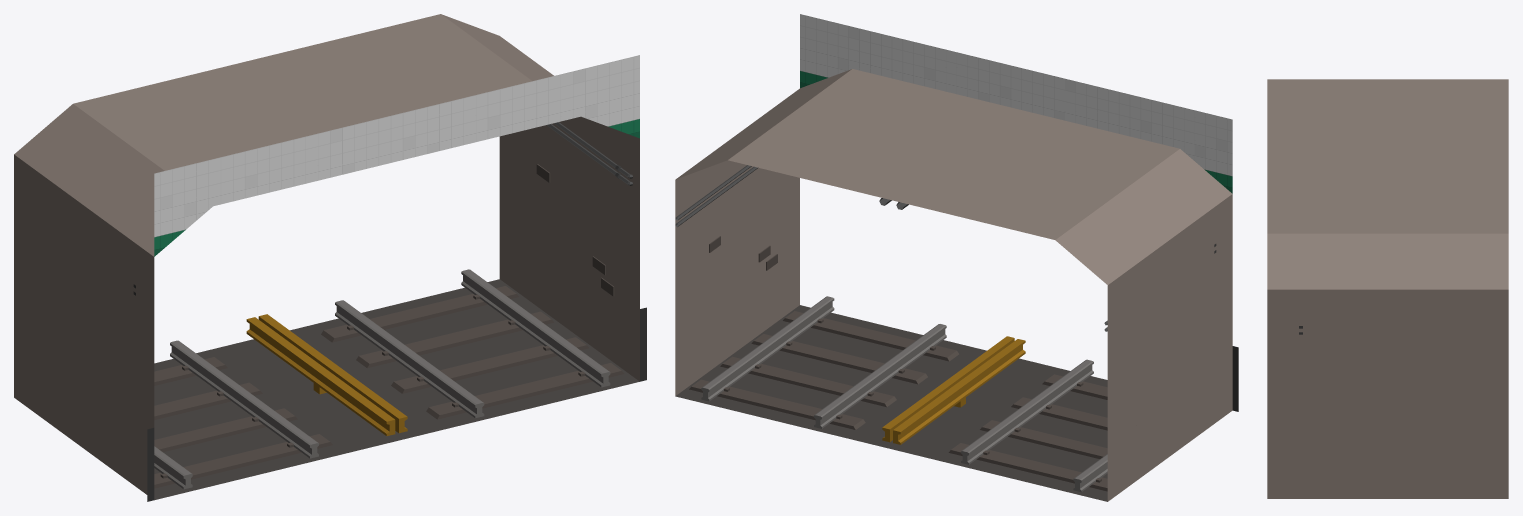
File: SM_Train_Track_Underground_Double_Tunnel_Start.fbx
3 views of the same model, side by side, from view 1: azimuth 30°, elevation 25°; view 2: azimuth 150°, elevation 25°; view 3: azimuth 270°, elevation 25° (orthographic). The views are drawn at different scales.
Parts seen in each view (by area): view 1: SM_Train_Track_Underground_Double_Tunnel_Start; view 2: SM_Train_Track_Underground_Double_Tunnel_Start; view 3: SM_Train_Track_Underground_Double_Tunnel_Start.
Part boxes in pixels (x1,y1,x2,y2): SM_Train_Track_Underground_Double_Tunnel_Start: (14,14,646,501); SM_Train_Track_Underground_Double_Tunnel_Start: (675,14,1238,501); SM_Train_Track_Underground_Double_Tunnel_Start: (1267,79,1508,498).
Size of the model in its own units: 720 by 450 by 350.
